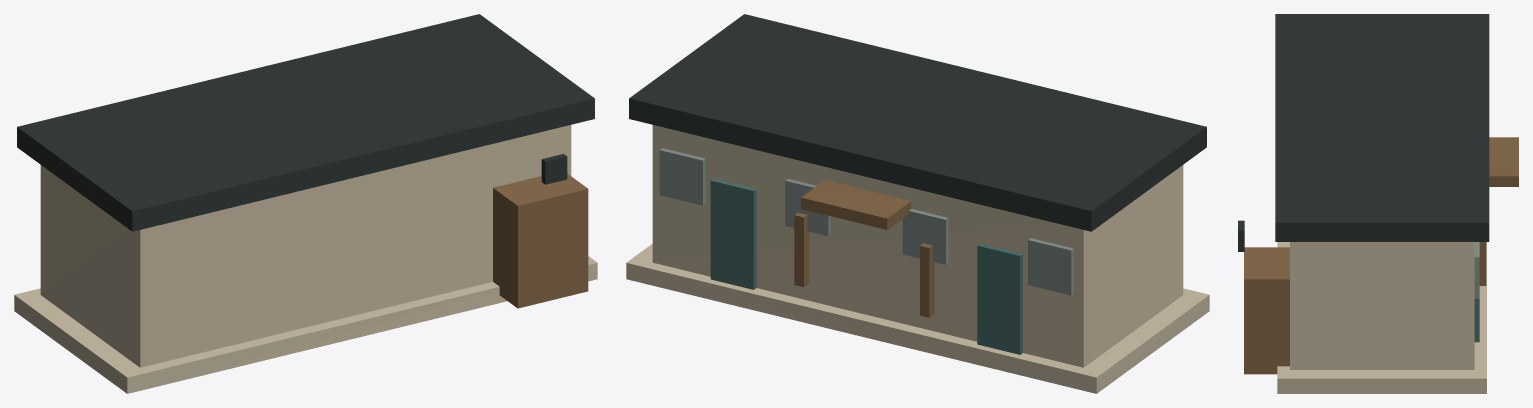
Rendered from bunkhouse.source.glb.
3 renders of one model, left to right at view 1: azimuth 30°, elevation 25°; view 2: azimuth 150°, elevation 25°; view 3: azimuth 270°, elevation 25°, orthographic. The views are drawn at different scales.
Visible parts, largest first — view 1: bunkhouse-long-worker-residence-mesh, bunkhouse-shallow-pitched-roof-mesh, bunkhouse-concrete-foundation-mesh, bunkhouse-rear-utility-annex-mesh, bunkhouse-utility-vent-mesh; view 2: bunkhouse-shallow-pitched-roof-mesh, bunkhouse-long-worker-residence-mesh, bunkhouse-concrete-foundation-mesh, bunkhouse-teal-entry-door-1.7-mesh, bunkhouse-teal-entry-door--1.7-mesh, bunkhouse-central-entry-canopy-mesh, bunkhouse-worker-window-2.35-mesh, bunkhouse-worker-window--2.35-mesh, bunkhouse-worker-window--0.75-mesh, bunkhouse-worker-window-0.75-mesh, bunkhouse-entry-post-0.8-mesh, bunkhouse-entry-post--0.8-mesh; view 3: bunkhouse-shallow-pitched-roof-mesh, bunkhouse-long-worker-residence-mesh, bunkhouse-concrete-foundation-mesh, bunkhouse-rear-utility-annex-mesh, bunkhouse-central-entry-canopy-mesh, bunkhouse-entry-post-0.8-mesh, bunkhouse-worker-window-2.35-mesh, bunkhouse-teal-entry-door-1.7-mesh.
Boxes of the visible parts, bbox=[...] form: bunkhouse-long-worker-residence-mesh: bbox=[40, 125, 571, 367]; bunkhouse-shallow-pitched-roof-mesh: bbox=[17, 14, 594, 231]; bunkhouse-concrete-foundation-mesh: bbox=[14, 256, 597, 393]; bunkhouse-rear-utility-annex-mesh: bbox=[493, 173, 588, 308]; bunkhouse-utility-vent-mesh: bbox=[541, 154, 567, 184]; bunkhouse-shallow-pitched-roof-mesh: bbox=[629, 14, 1206, 231]; bunkhouse-long-worker-residence-mesh: bbox=[652, 125, 1183, 367]; bunkhouse-concrete-foundation-mesh: bbox=[626, 244, 1209, 393]; bunkhouse-teal-entry-door-1.7-mesh: bbox=[710, 178, 756, 289]; bunkhouse-teal-entry-door--1.7-mesh: bbox=[977, 243, 1022, 354]; bunkhouse-central-entry-canopy-mesh: bbox=[801, 180, 911, 229]; bunkhouse-worker-window-2.35-mesh: bbox=[659, 148, 705, 205]; bunkhouse-worker-window--2.35-mesh: bbox=[1028, 238, 1073, 295]; bunkhouse-worker-window--0.75-mesh: bbox=[902, 209, 948, 264]; bunkhouse-worker-window-0.75-mesh: bbox=[785, 179, 830, 236]; bunkhouse-entry-post-0.8-mesh: bbox=[794, 212, 809, 287]; bunkhouse-entry-post--0.8-mesh: bbox=[920, 243, 934, 317]; bunkhouse-shallow-pitched-roof-mesh: bbox=[1275, 14, 1489, 241]; bunkhouse-long-worker-residence-mesh: bbox=[1290, 242, 1474, 369]; bunkhouse-concrete-foundation-mesh: bbox=[1277, 242, 1486, 393]; bunkhouse-rear-utility-annex-mesh: bbox=[1244, 247, 1289, 374]; bunkhouse-central-entry-canopy-mesh: bbox=[1489, 137, 1518, 186]; bunkhouse-entry-post-0.8-mesh: bbox=[1479, 242, 1486, 285]; bunkhouse-worker-window-2.35-mesh: bbox=[1474, 242, 1479, 298]; bunkhouse-teal-entry-door-1.7-mesh: bbox=[1474, 299, 1479, 342].
Bounding box in the file's own units: 6 × 2.23 × 3.35.
